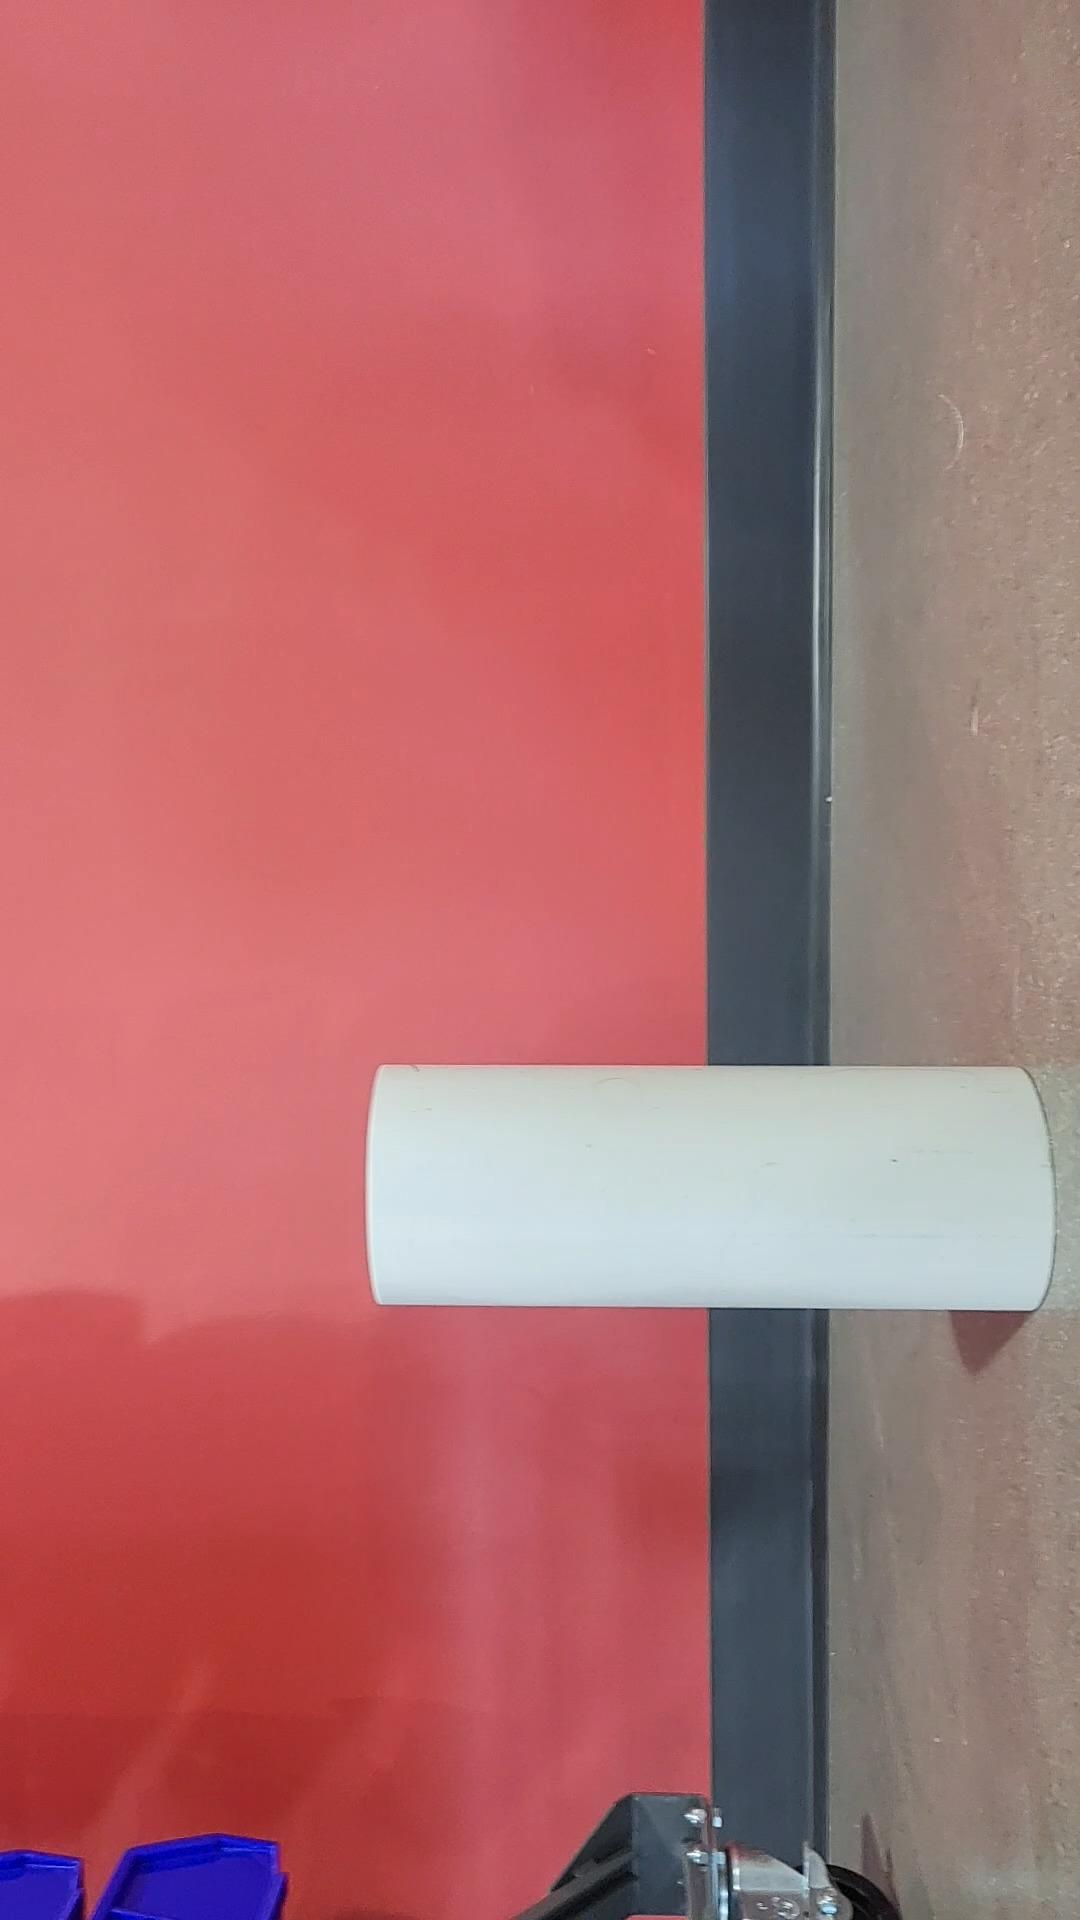coral: (371, 1047, 1069, 1320)
